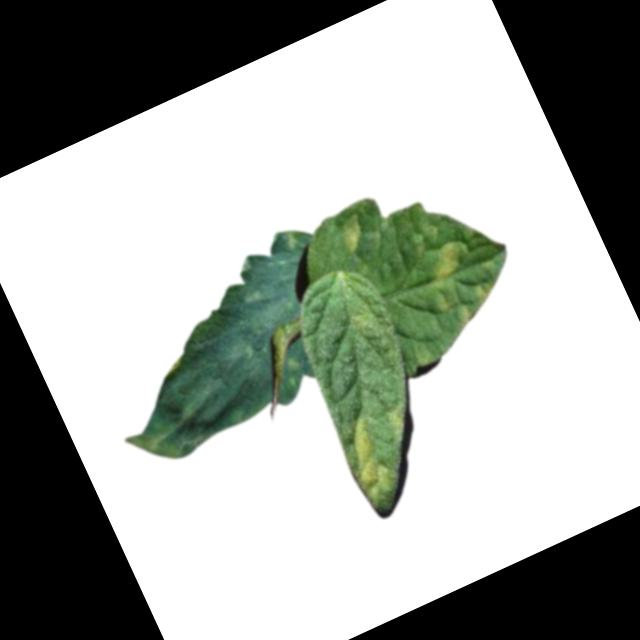Leaf_Mold: (70, 223, 370, 476), (331, 409, 406, 504), (421, 238, 470, 284), (327, 211, 369, 259)
